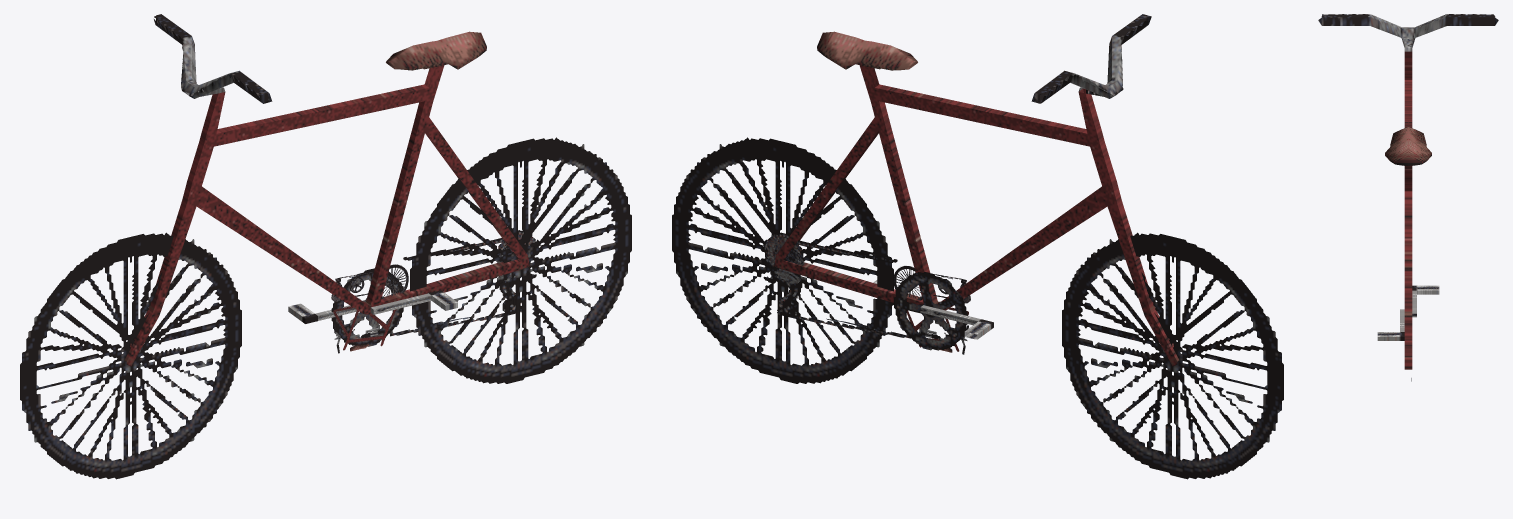
Rendered from Bike.fbx.
3 renders of one model, left to right at view 1: azimuth 30°, elevation 25°; view 2: azimuth 150°, elevation 25°; view 3: azimuth 270°, elevation 25°, orthographic. The views are drawn at different scales.
Parts seen in each view (by area): view 1: Bike; view 2: Bike; view 3: Bike.
Part boxes in pixels (x1=…): Bike: x1=20, y1=14, x2=631, y2=479; Bike: x1=672, y1=14, x2=1283, y2=479; Bike: x1=1318, y1=14, x2=1498, y2=381.
Bounding box in the file's own units: 374 × 230 × 117.
1 material, 1 textured.
